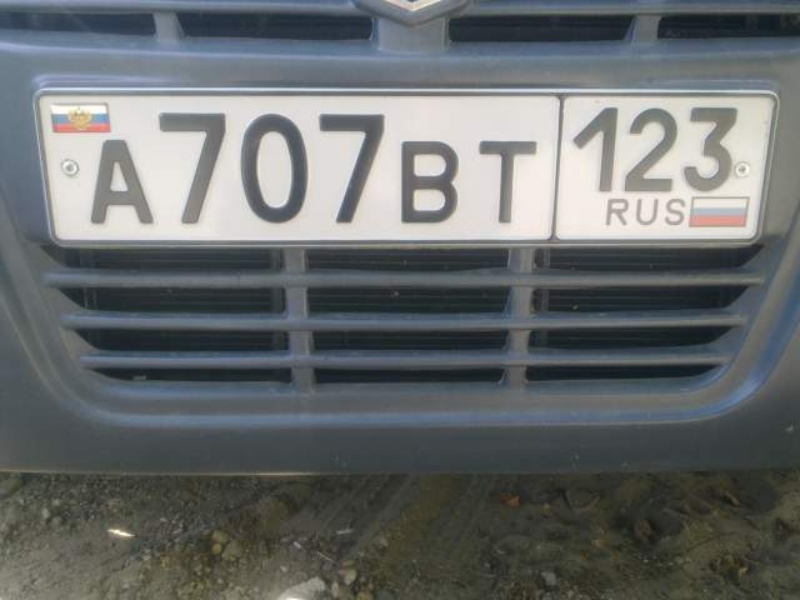plate: (38, 90, 776, 246)
